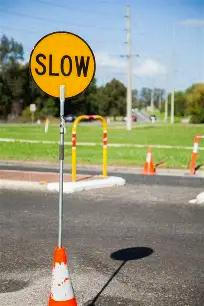Slow: (29, 31, 95, 96)
